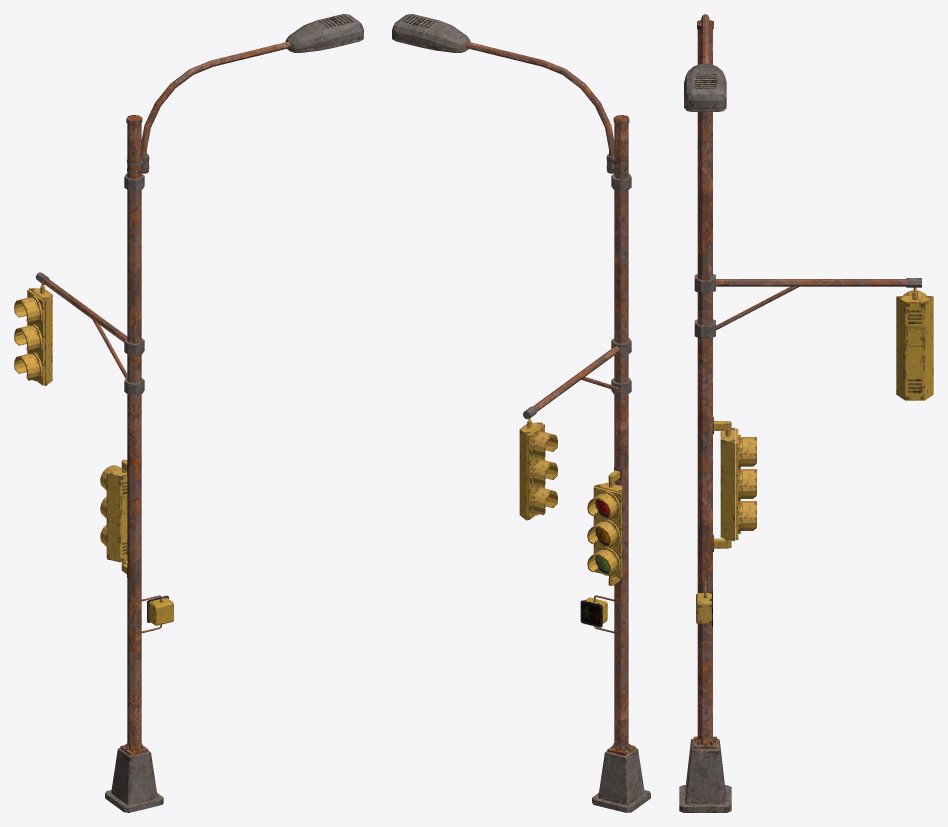
3 views of the same model, side by side, from view 1: azimuth 30°, elevation 25°; view 2: azimuth 150°, elevation 25°; view 3: azimuth 270°, elevation 25° (orthographic). The views are drawn at different scales.
Visible parts, largest first — view 1: world; view 2: world; view 3: world.
Part boxes in pixels (bbox=[...]): world: bbox=[14, 14, 363, 812]; world: bbox=[392, 14, 650, 812]; world: bbox=[679, 14, 933, 812].
Size of the model in its own units: 3.45 by 9.82 by 2.72.
1 material, 1 textured.
